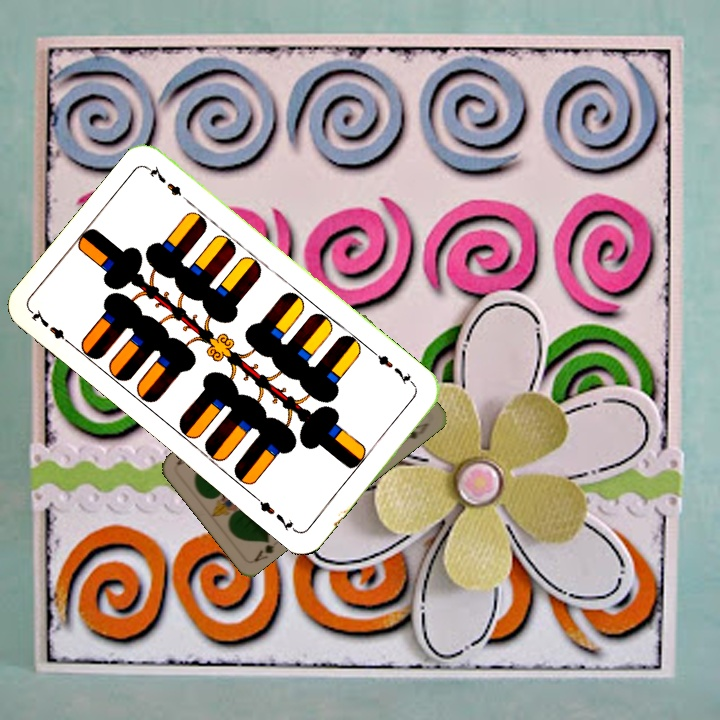E7: (369, 347, 418, 390), (27, 306, 76, 349)
GA: (250, 535, 277, 564)
